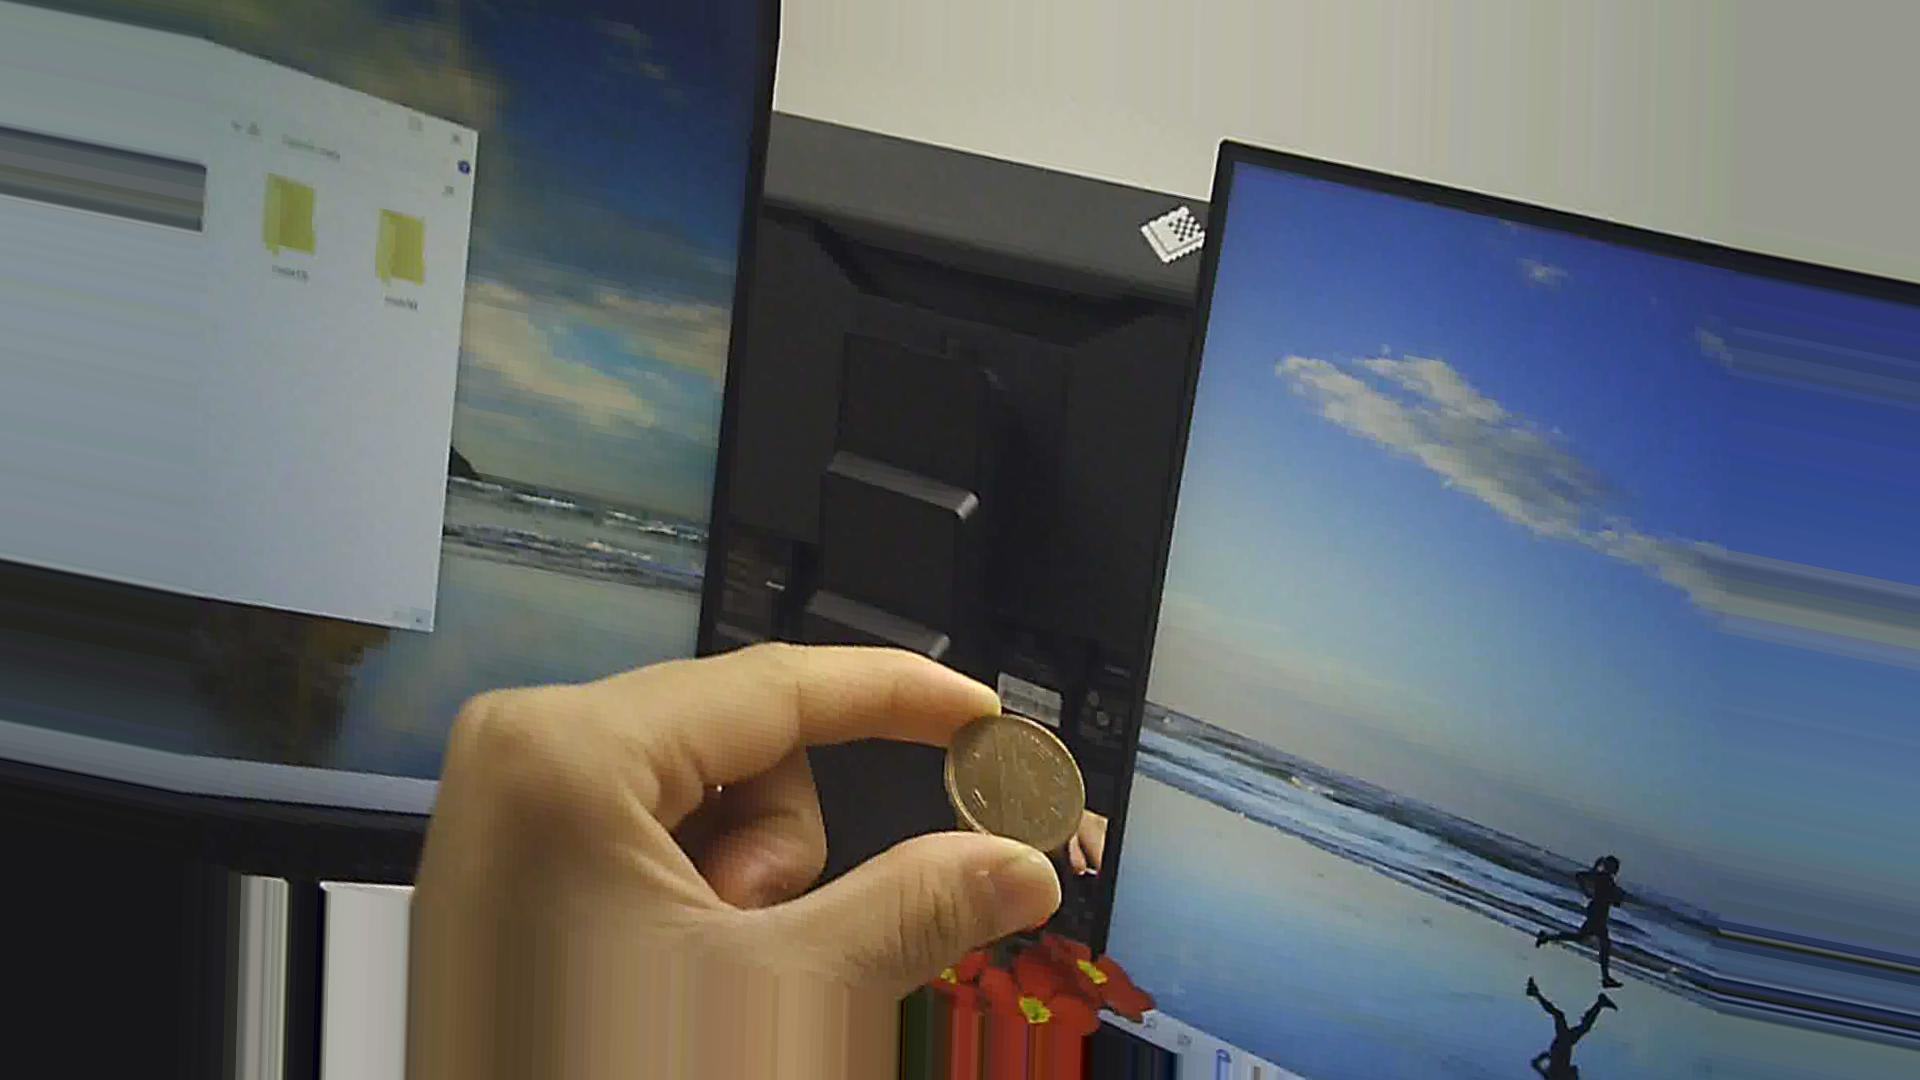10 Yen: (926, 715, 1095, 865)
